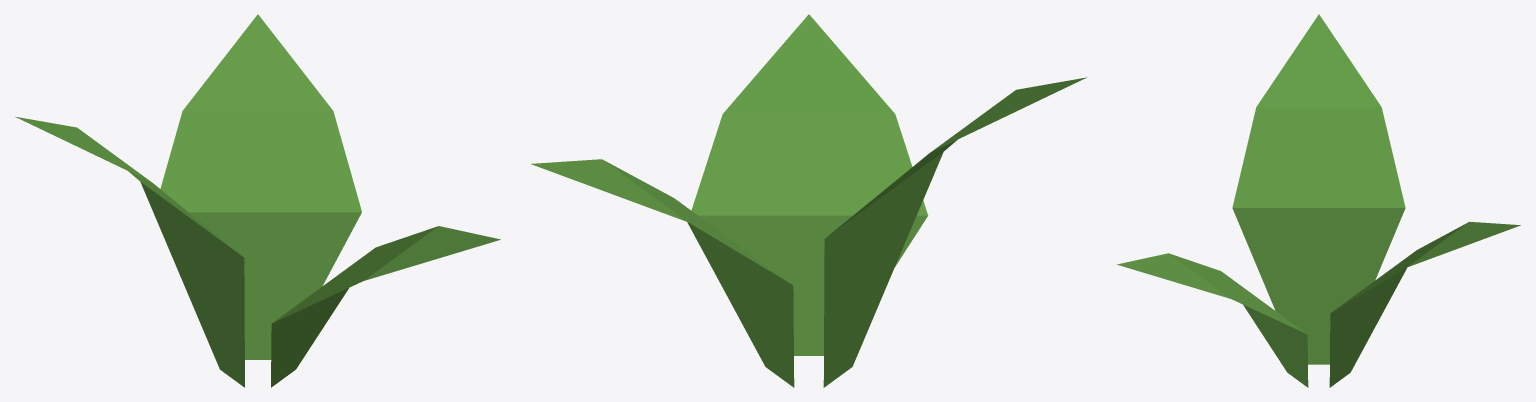
Rendered from bush-3.glb.
The picture shows the model from 3 angles, left to right: view 1: azimuth 30°, elevation 25°; view 2: azimuth 150°, elevation 25°; view 3: azimuth 270°, elevation 25°; orthographic projection. The views are drawn at different scales.
Parts seen in each view (by area): view 1: plant_bushTriangle; view 2: plant_bushTriangle; view 3: plant_bushTriangle.
Boxes of the visible parts, x1,y1,x2,y2 form: plant_bushTriangle: [15, 14, 500, 387]; plant_bushTriangle: [531, 14, 1086, 387]; plant_bushTriangle: [1117, 14, 1520, 387].
Size of the model in its own units: 0.8631 by 0.7 by 0.9796.
